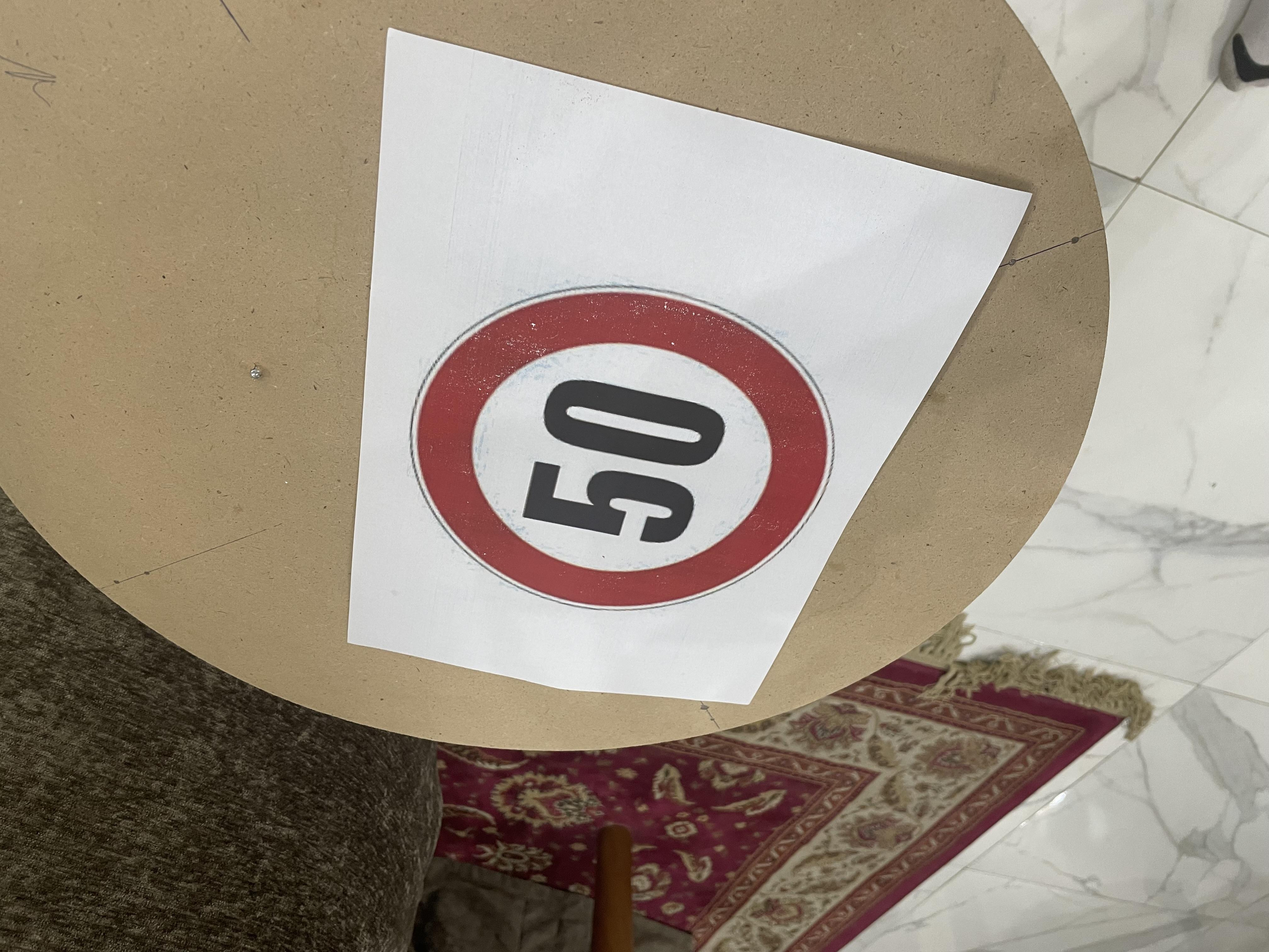50-Speed: (441, 331, 867, 669)
